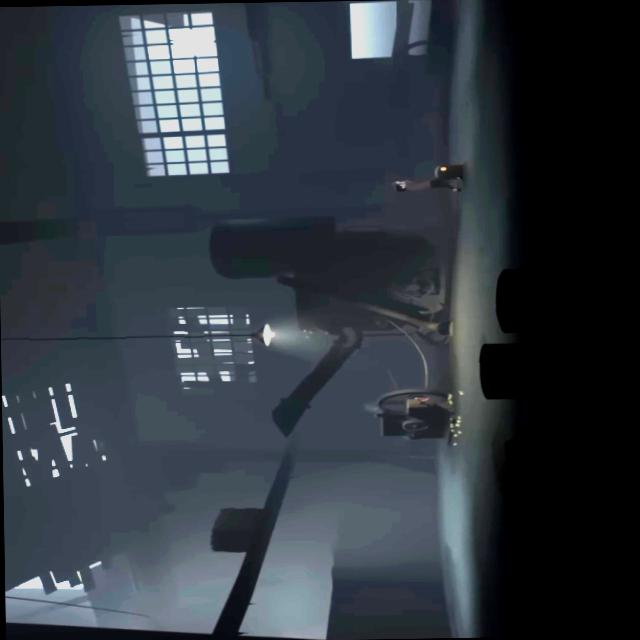boy: (392, 175, 463, 192)
